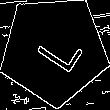L_NW: (25, 23, 83, 77)
